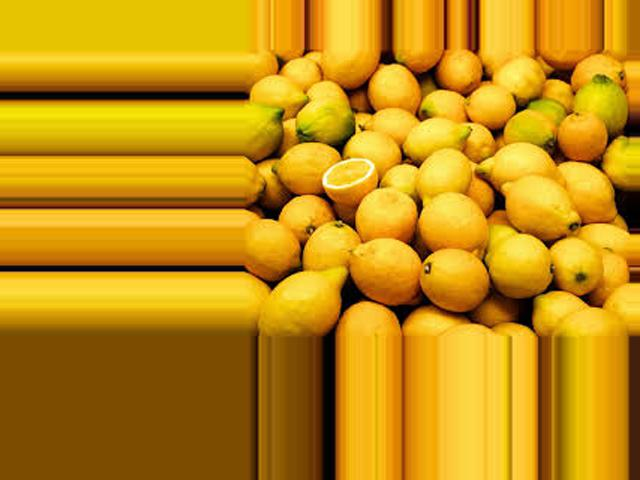lemon: (403, 308, 460, 339)
